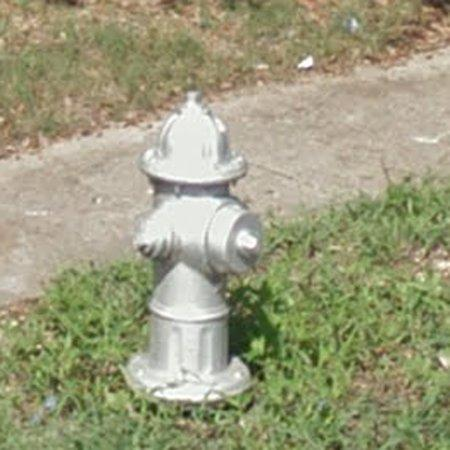a fire hydrant: (125, 91, 263, 404)
